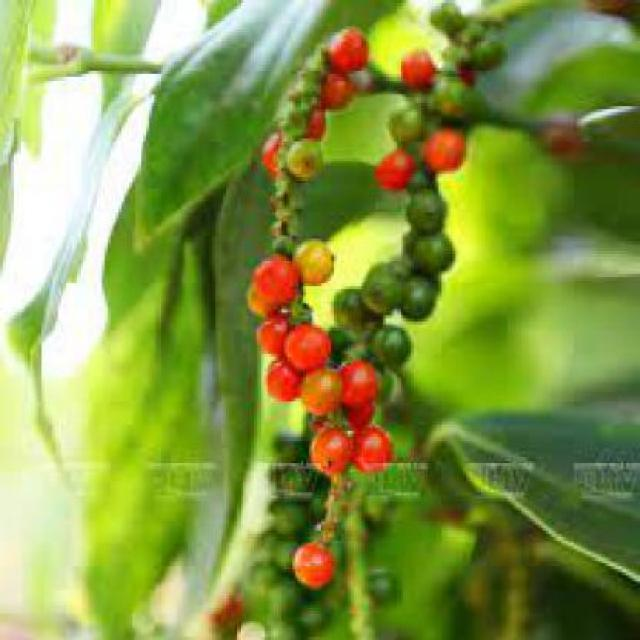RIPE: (268, 221, 352, 522), (389, 50, 483, 159)
